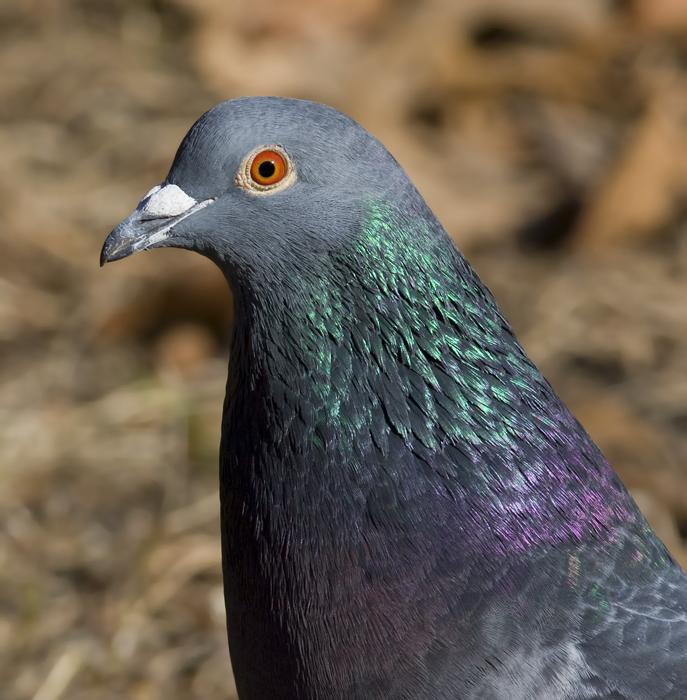Flying Rat: (100, 94, 685, 694)
